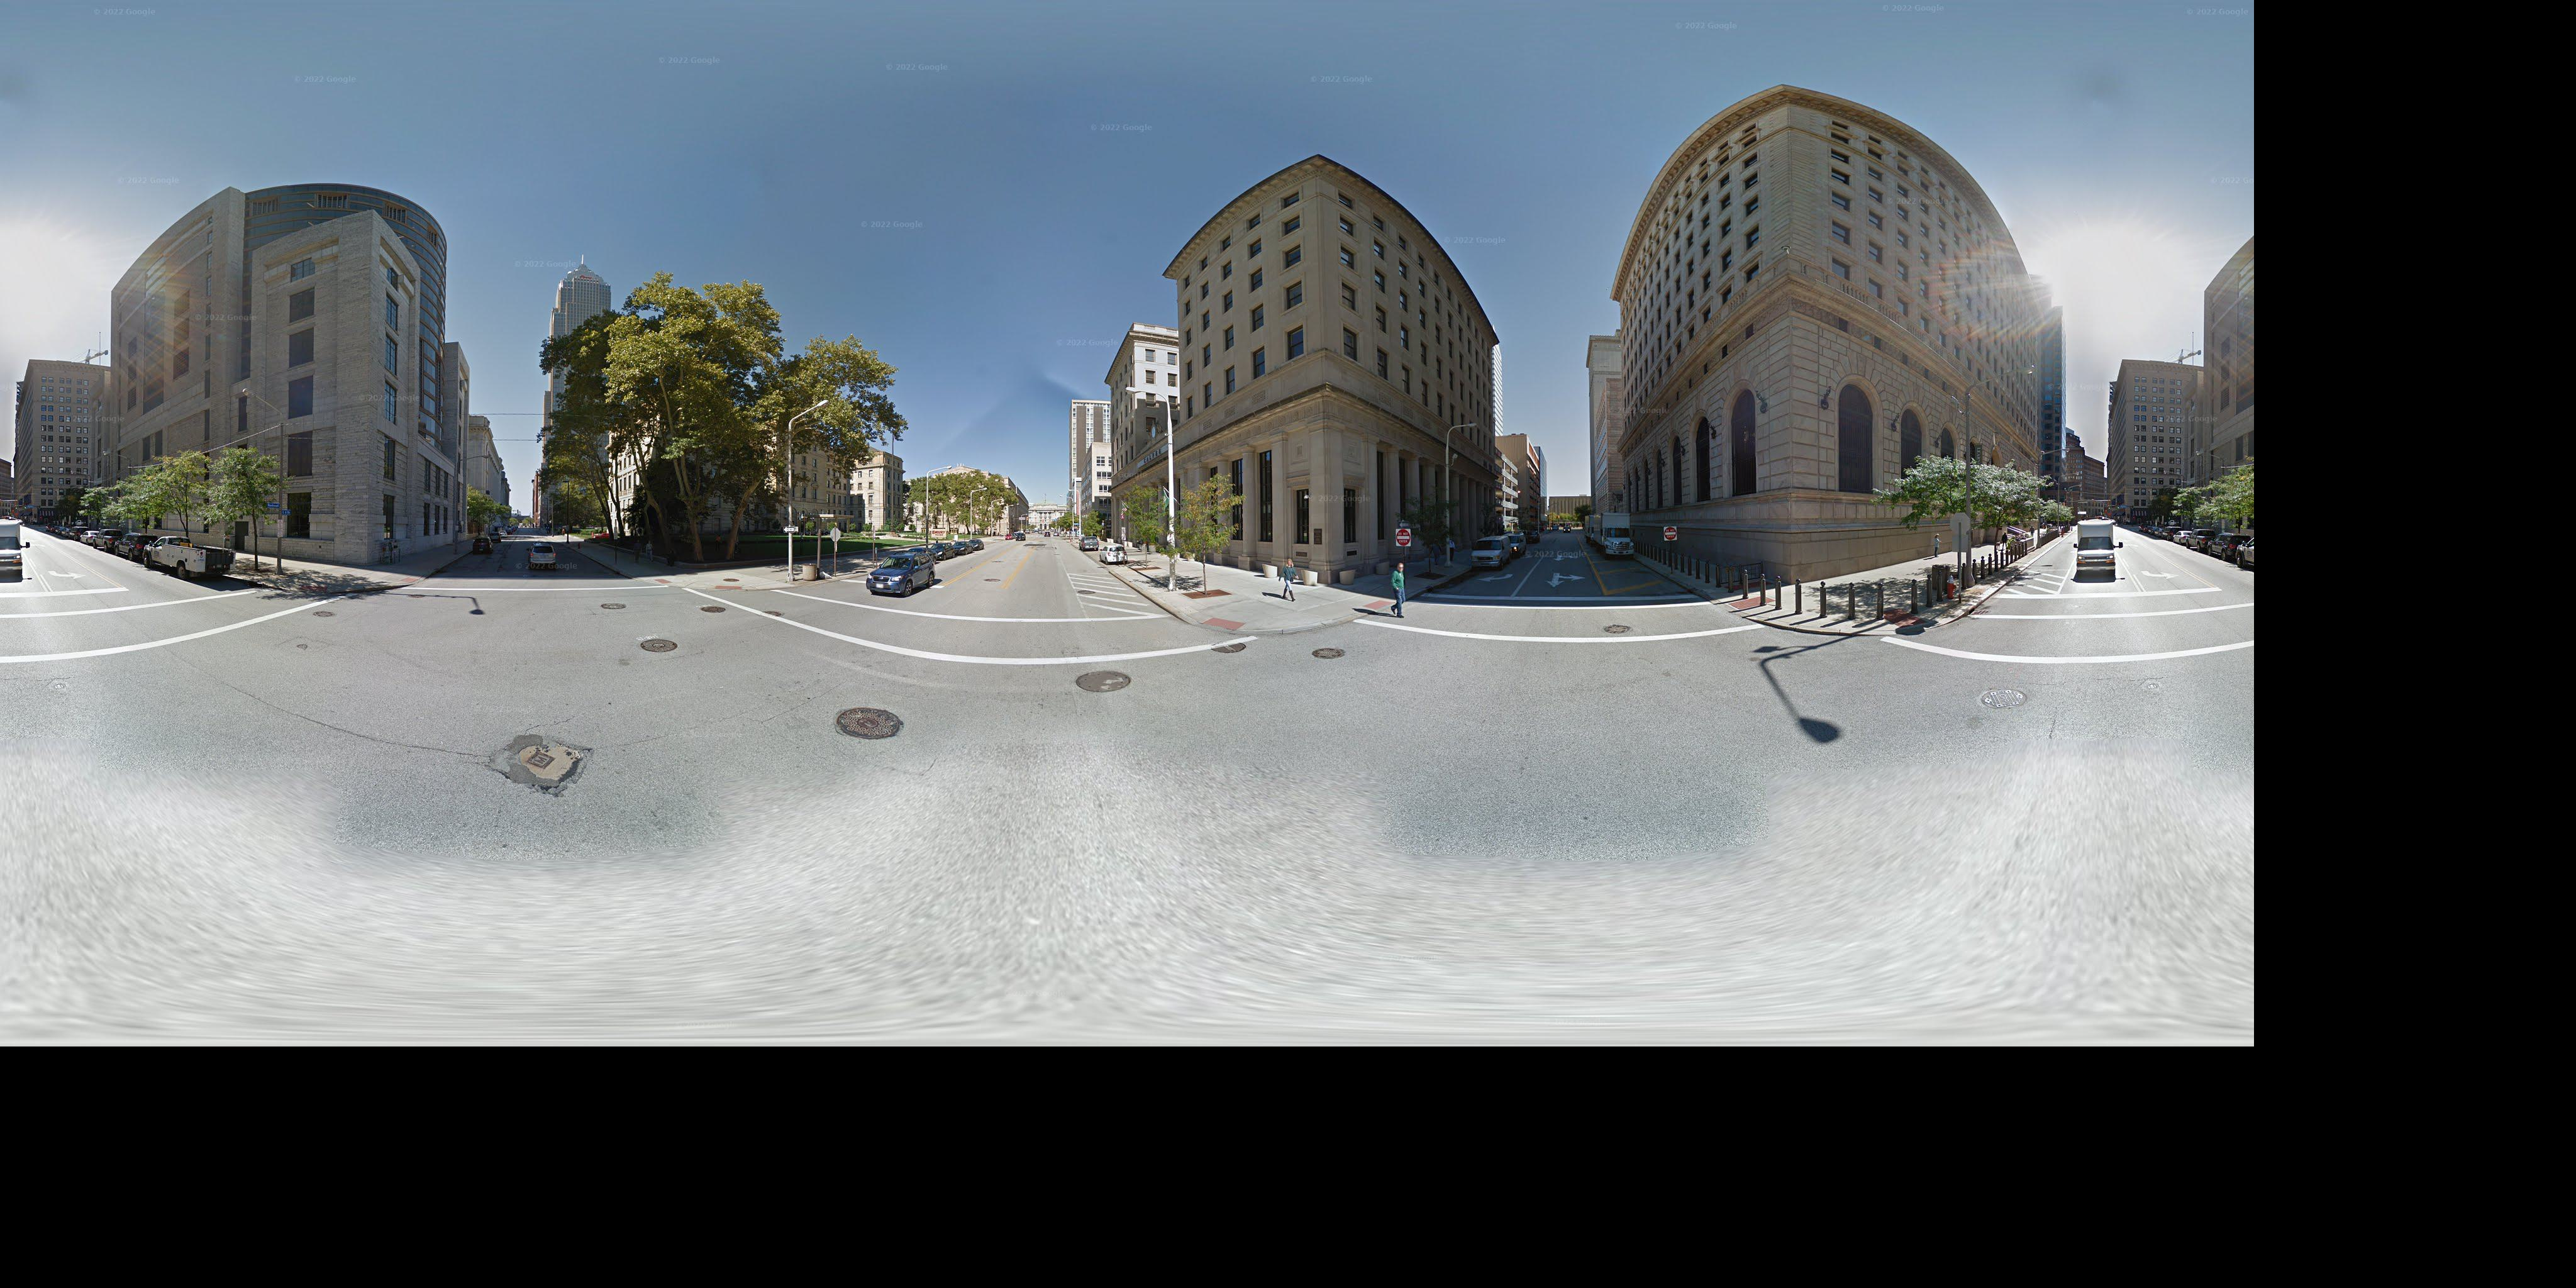Blocked Ramp: (1863, 590, 1950, 644), (1725, 578, 1776, 626)
Curb Ramp: (1198, 609, 1249, 644), (1360, 588, 1403, 623), (701, 578, 746, 593), (398, 568, 422, 588), (647, 575, 675, 588)
